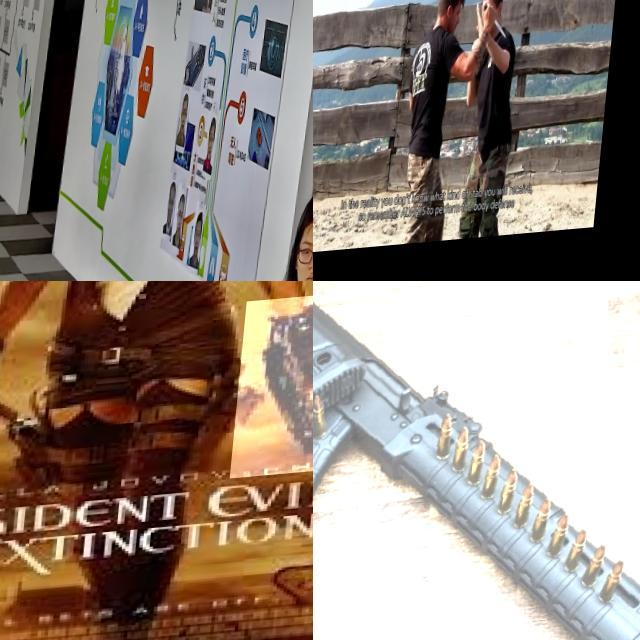-: (313, 0, 371, 134), (359, 0, 477, 61), (313, 0, 392, 90), (486, 8, 518, 52)
gun-knife-thesis - v11 Yolov5 augmented: (313, 281, 640, 640), (0, 316, 74, 506), (238, 300, 313, 486)
